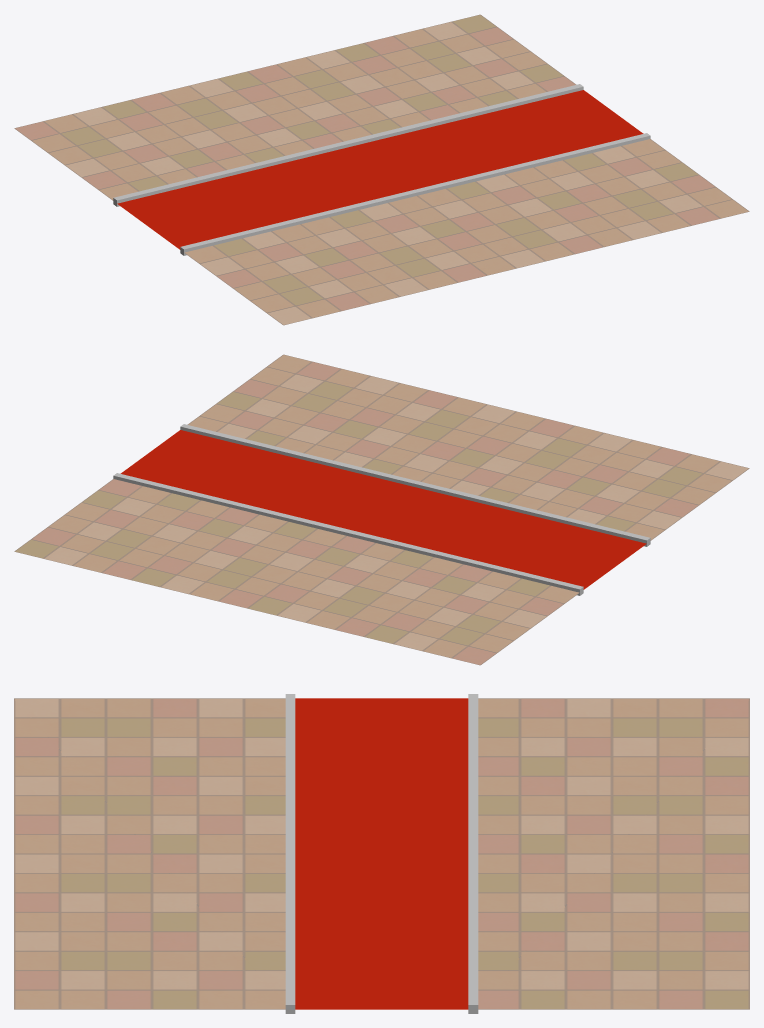
Rendered from Set_C_Tiles_07.fbx.
3 views of the same model, one above another, from view 1: azimuth 30°, elevation 25°; view 2: azimuth 150°, elevation 25°; view 3: azimuth 270°, elevation 25° (orthographic). The views are drawn at different scales.
Visible parts, largest first — view 1: Set_C_Tiles_07; view 2: Set_C_Tiles_07; view 3: Set_C_Tiles_07.
Part boxes in pixels (x1,y1,x2,y2): Set_C_Tiles_07: (14, 14, 749, 325); Set_C_Tiles_07: (14, 354, 749, 665); Set_C_Tiles_07: (14, 694, 749, 1013).
Bounding box in the file's own units: 1500 × 1500 × 20.
